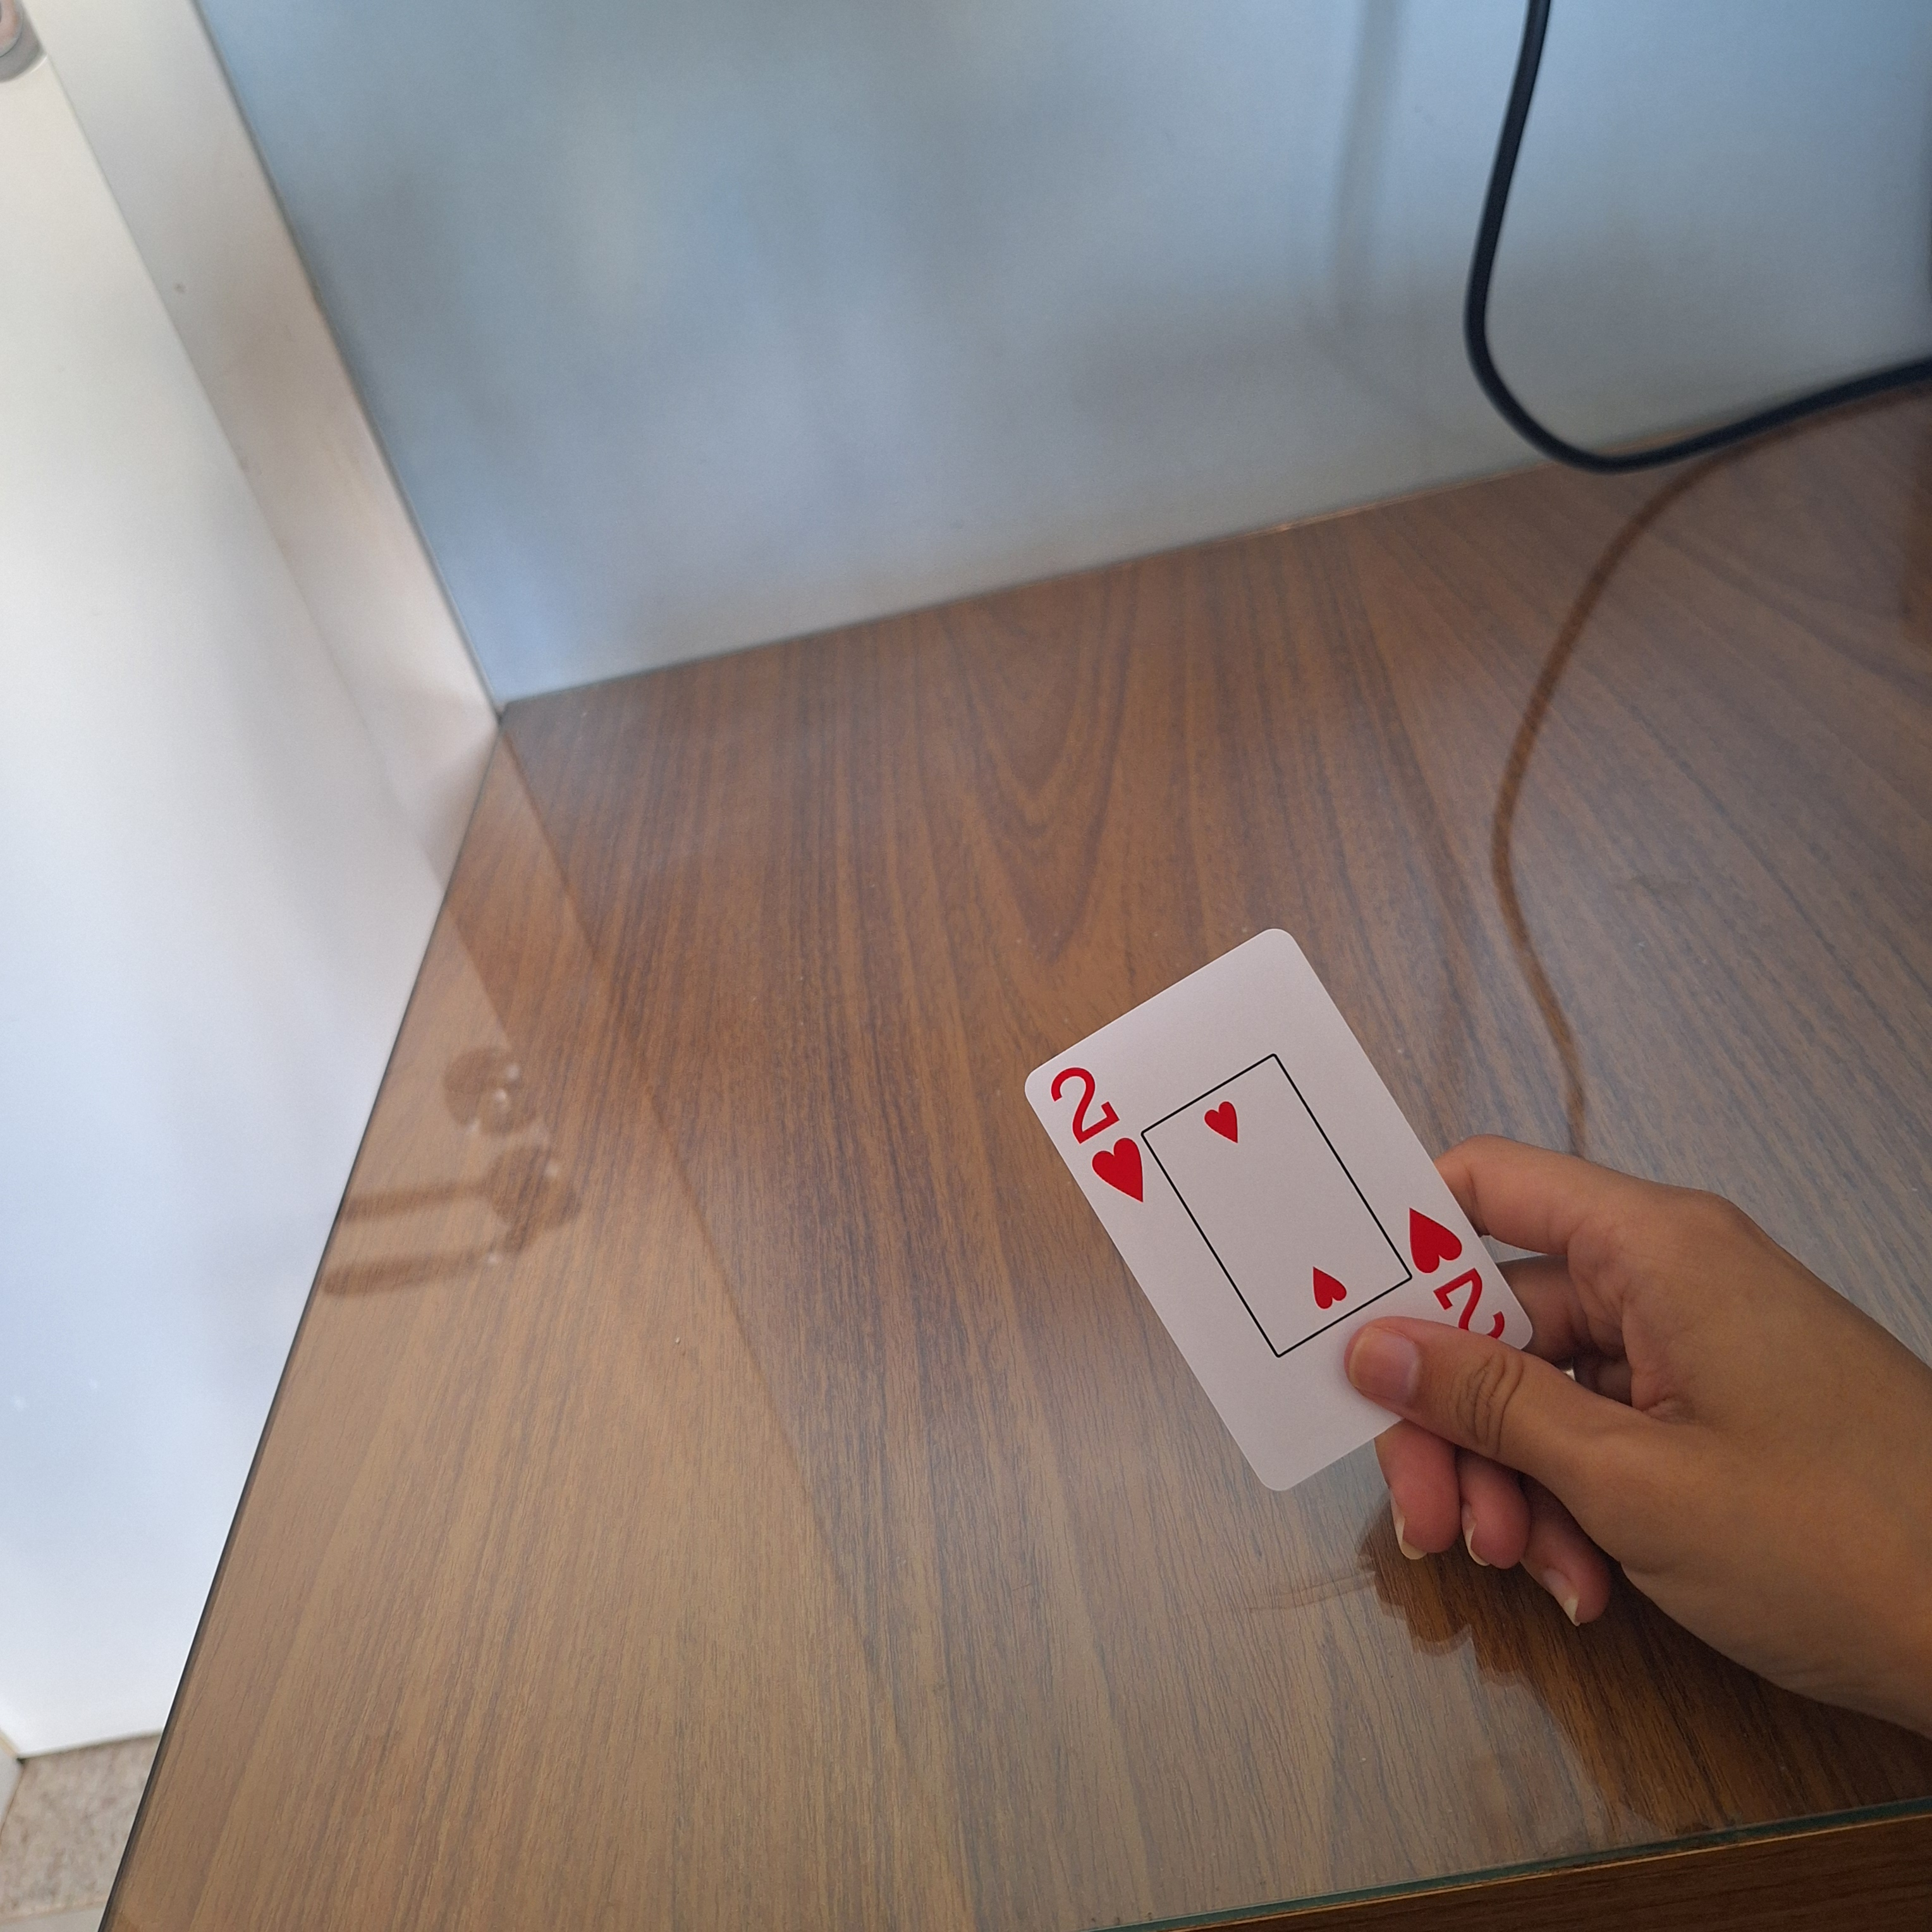2C: (1039, 1053, 1152, 1210), (1396, 1198, 1513, 1339)
